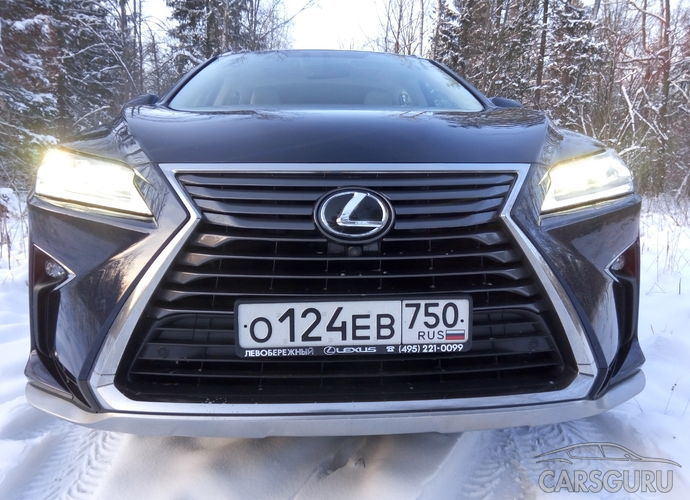car: (23, 49, 646, 438)
